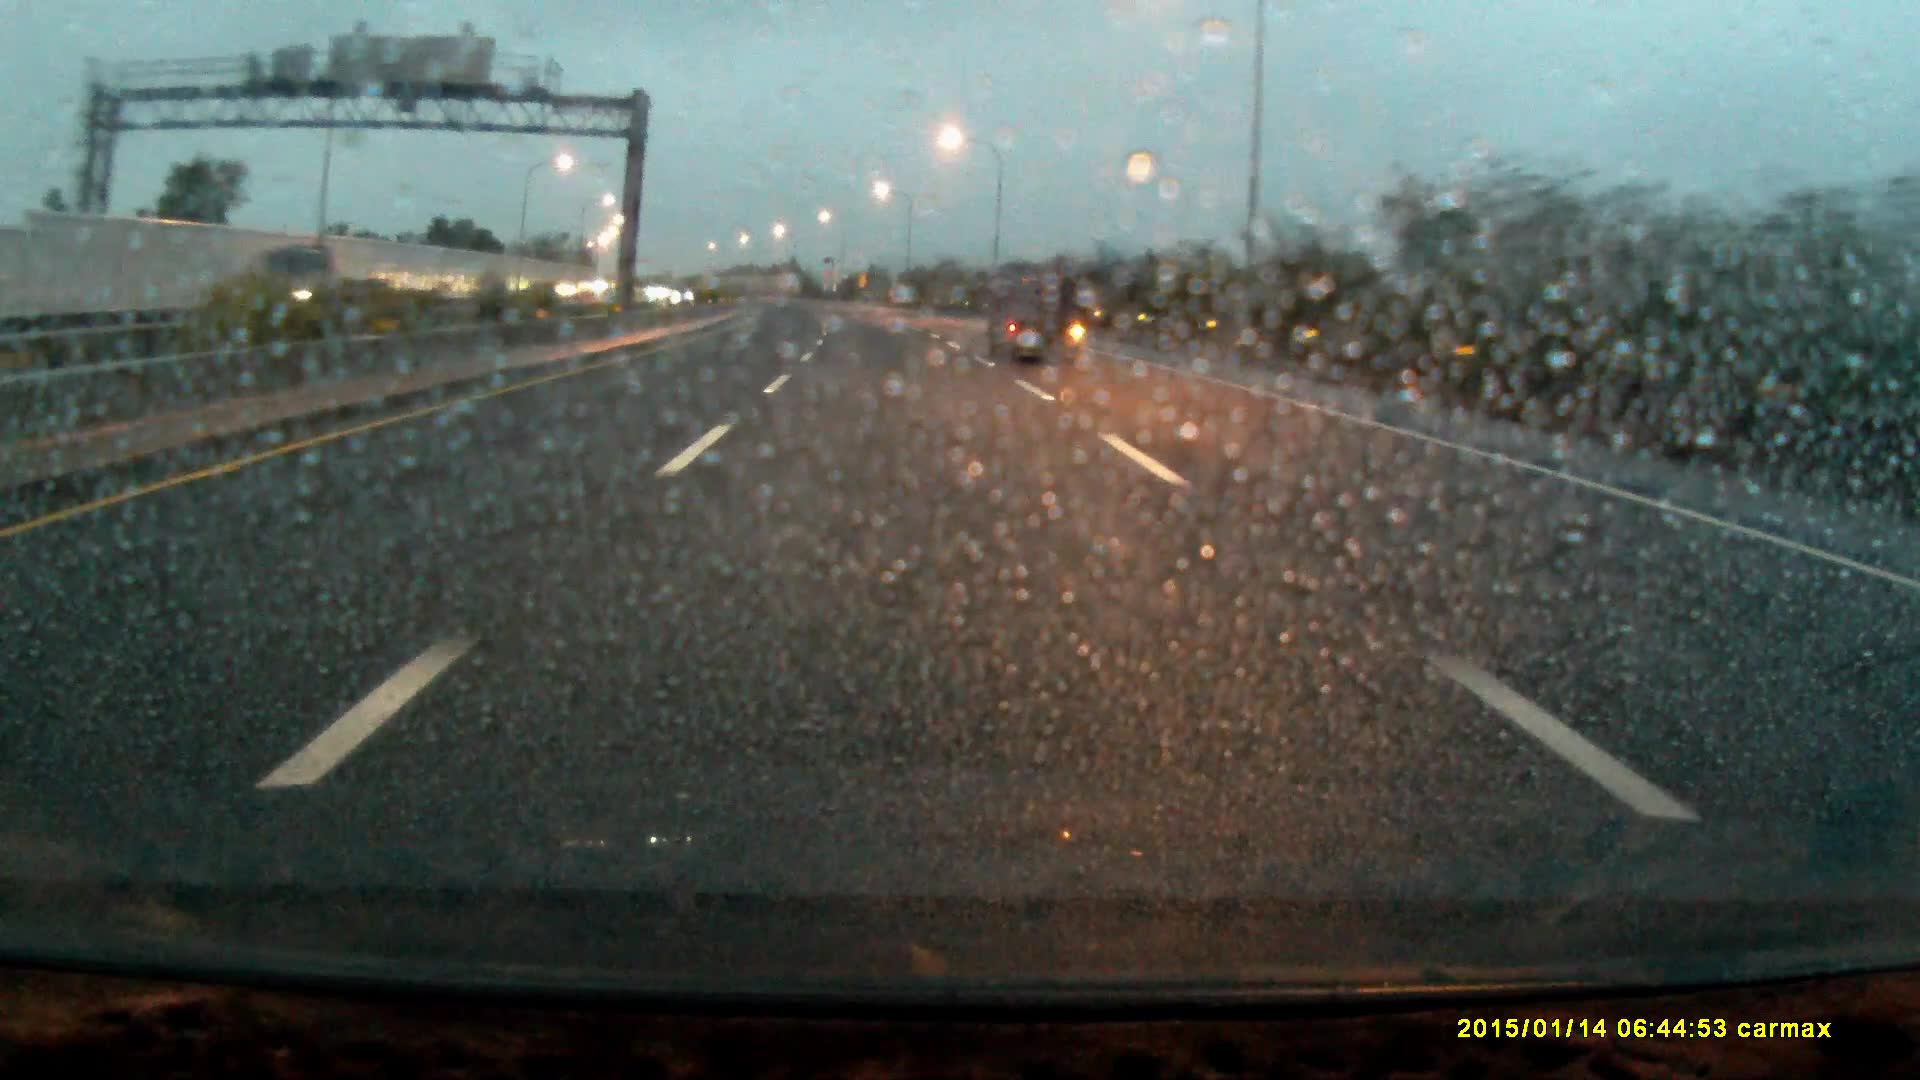vehicle: (247, 243, 388, 323), (996, 274, 1083, 367)
